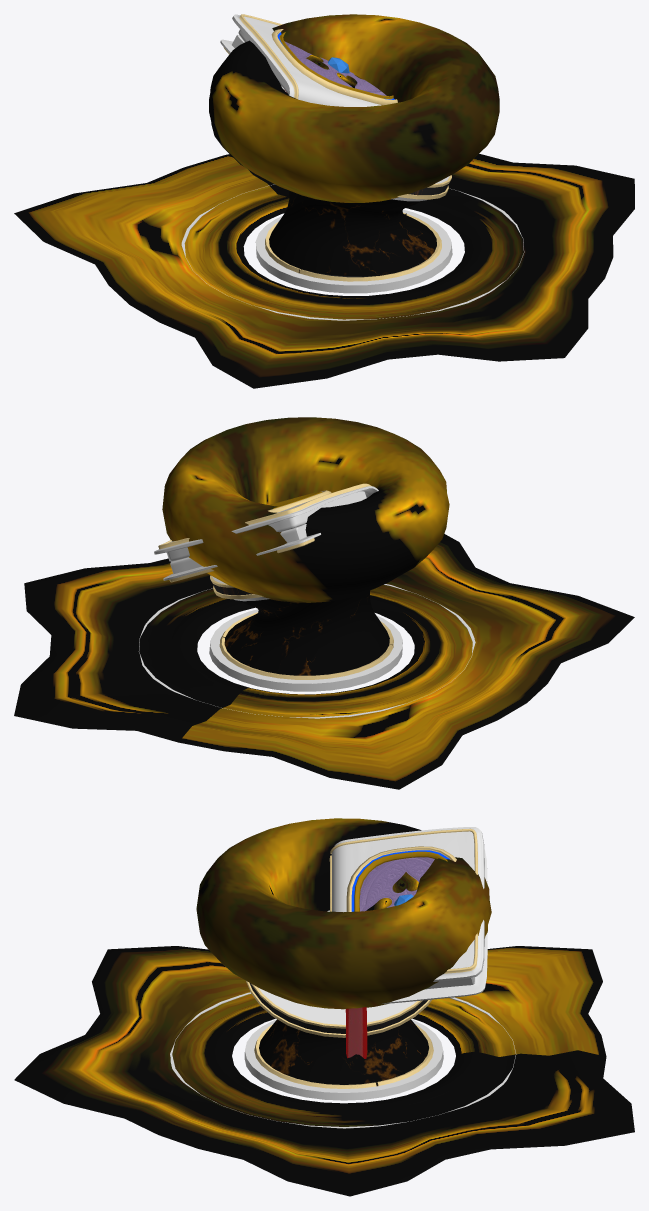
File: BookOfHonor.fbx
3 renders of one model, top to bottom at view 1: azimuth 30°, elevation 25°; view 2: azimuth 150°, elevation 25°; view 3: azimuth 270°, elevation 25°, orthographic. The views are drawn at different scales.
Visible parts, largest first — view 1: Cylinder.155, Cylinder.156, Cylinder.153, LIBRO.004; view 2: Cylinder.155, Cylinder.156, Cylinder.153, LIBRO.004, LIBRO.003; view 3: Cylinder.155, Cylinder.156, Cylinder.153, LIBRO.004, LIBRO.003.
Boxes of the visible parts, x1,y1,x2,y2 form: Cylinder.155: (14,153,634,388); Cylinder.156: (209,14,499,202); Cylinder.153: (181,175,524,320); LIBRO.004: (232,14,397,106); Cylinder.155: (14,534,634,789); Cylinder.156: (162,417,449,602); Cylinder.153: (138,575,475,718); LIBRO.004: (154,483,378,561); LIBRO.003: (163,524,320,582); Cylinder.155: (14,946,634,1196); Cylinder.156: (196,818,491,1009); Cylinder.153: (170,910,516,1128); LIBRO.004: (329,827,484,981); LIBRO.003: (345,849,487,1058).
Size of the model in its own units: 361 by 138 by 378.
Materials: 12 (7 with a texture image).
